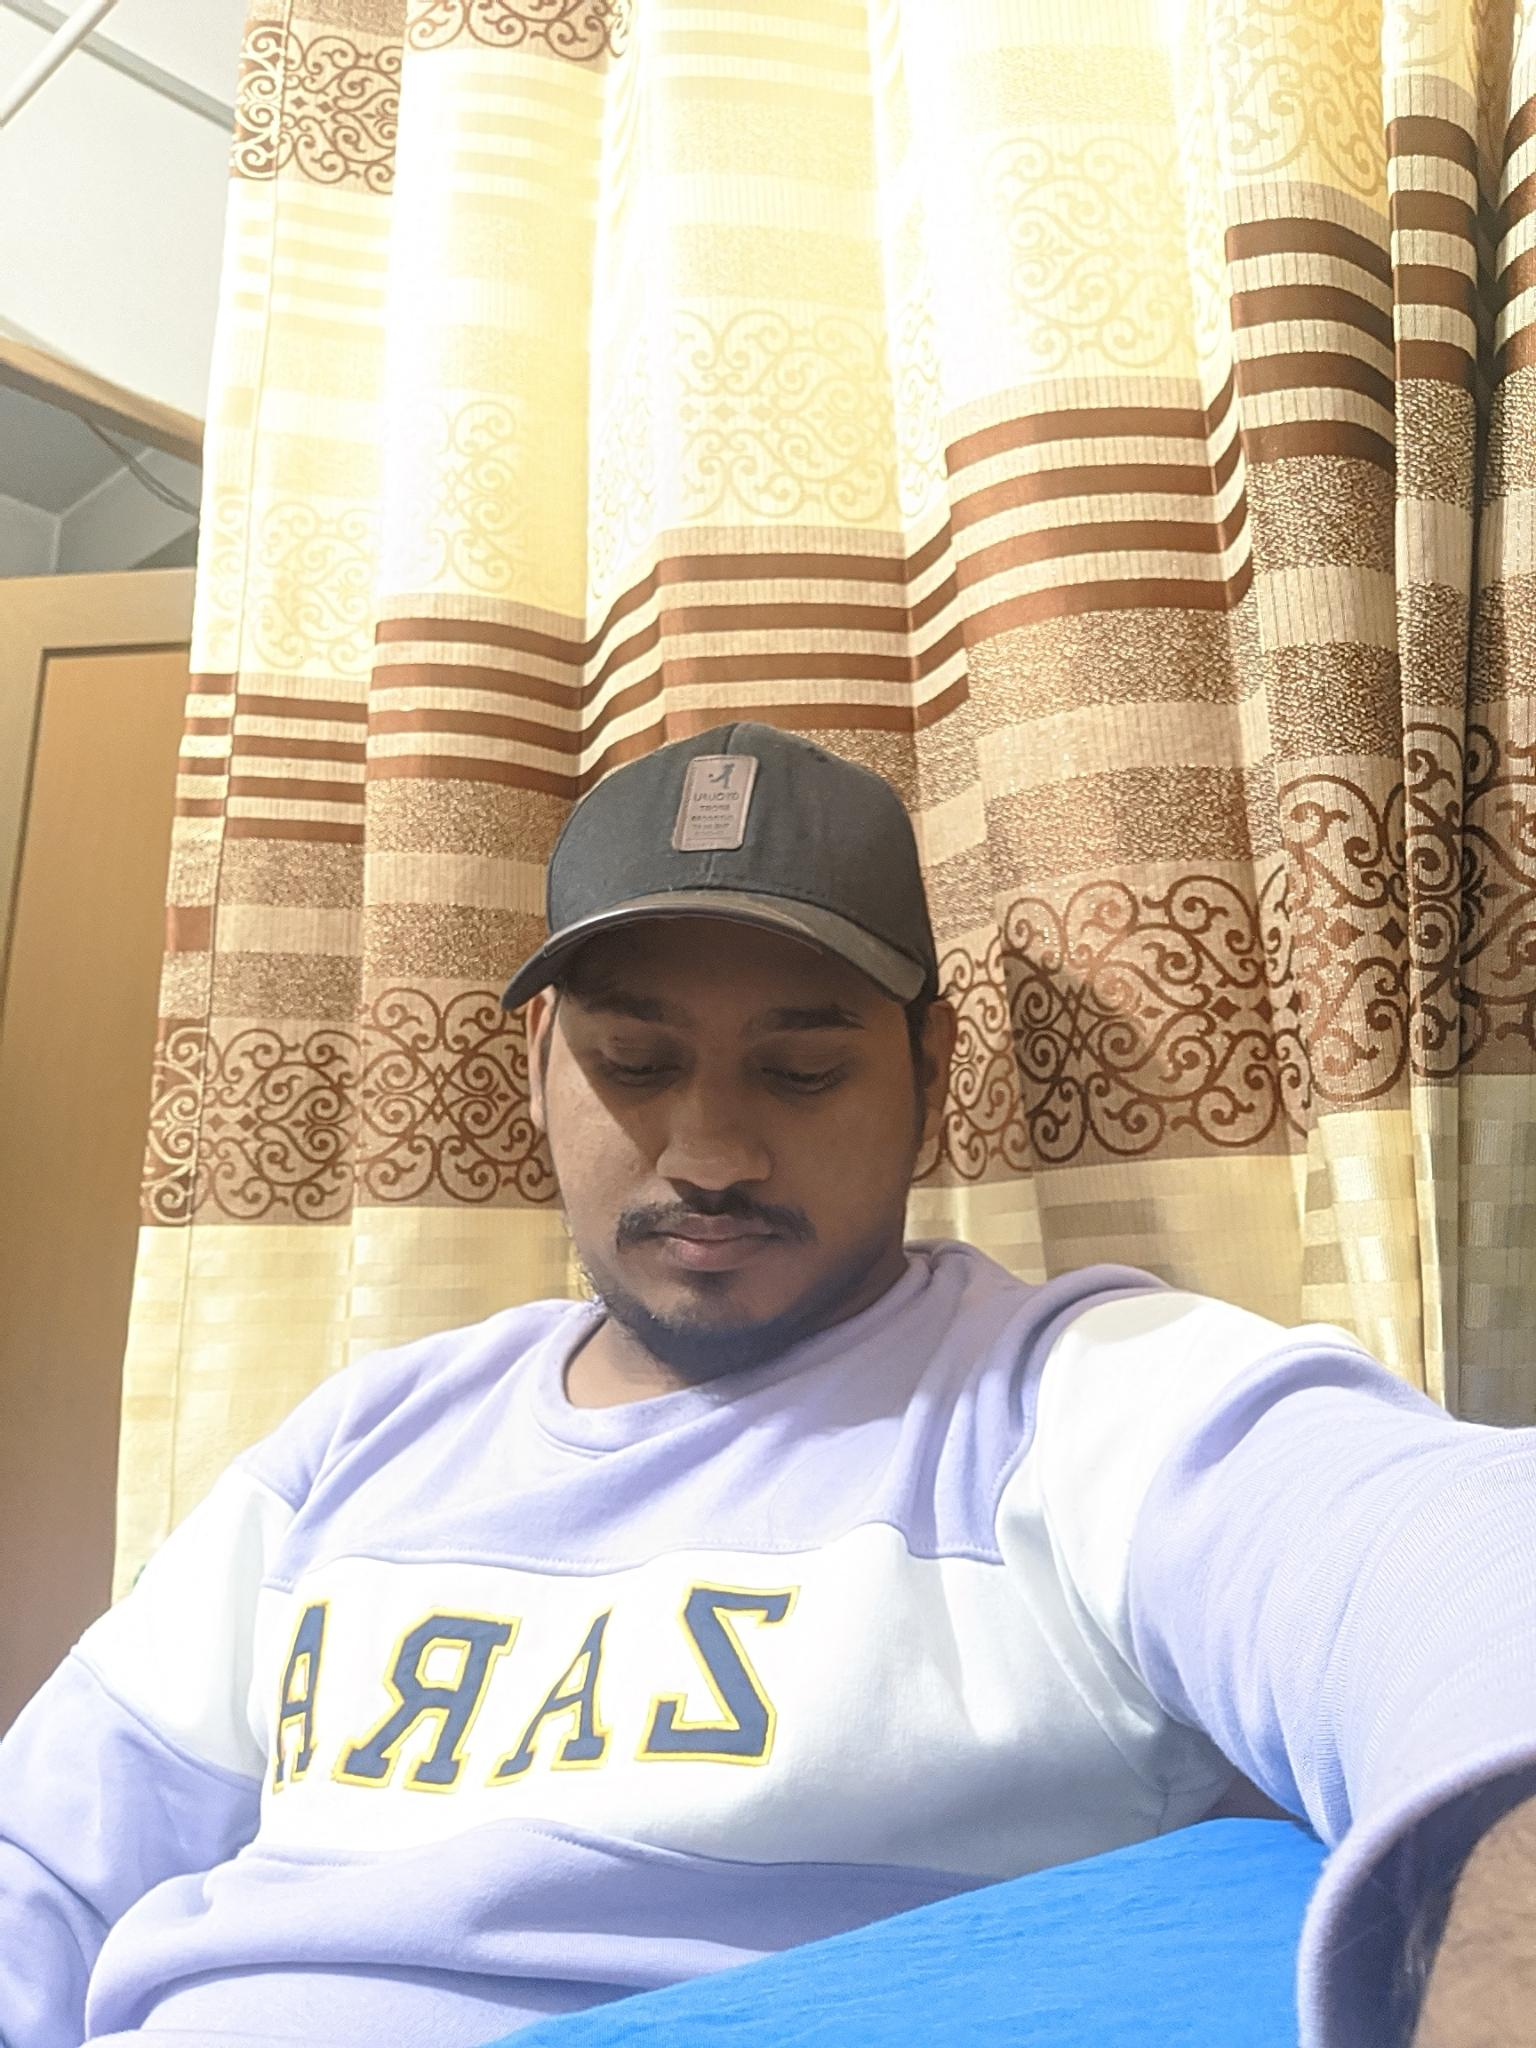Neutral: (531, 934, 895, 1350)
